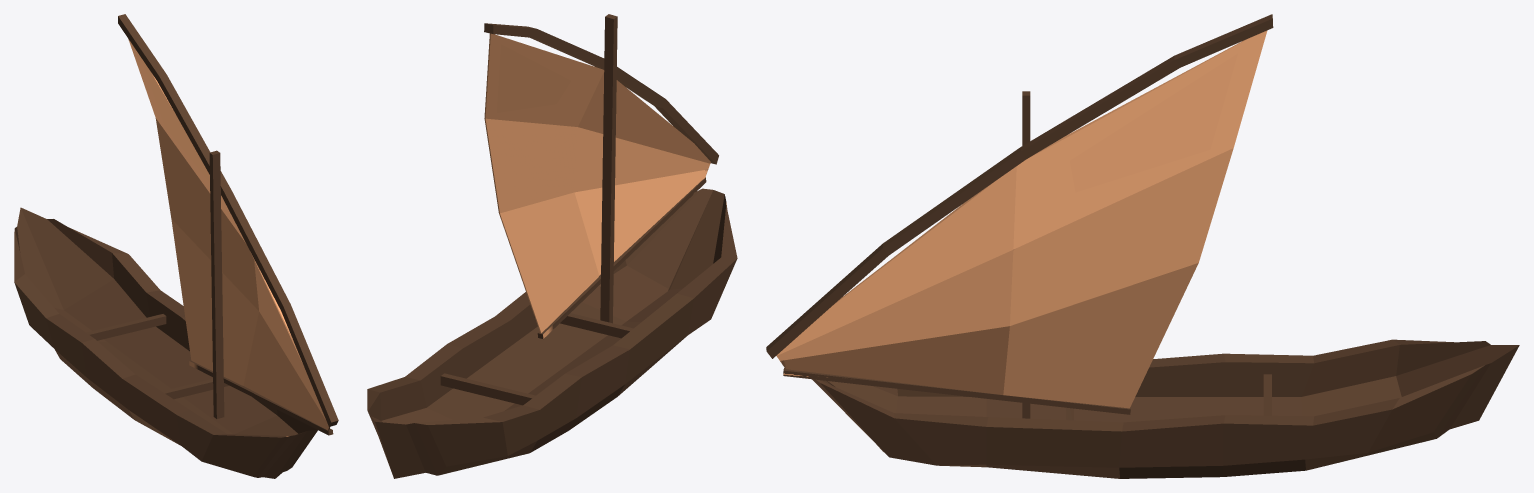
File: ArabToUnity.fbx
3 renders of one model, left to right at view 1: azimuth 30°, elevation 25°; view 2: azimuth 150°, elevation 25°; view 3: azimuth 270°, elevation 25°, orthographic. The views are drawn at different scales.
Parts seen in each view (by area): view 1: Cube, Cube.006, Cube.005, Cube.003, Cube.001, Cube.004, Cube.002; view 2: Cube, Cube.006, Cube.003, Cube.005, Cube.004, Cube.001, Cube.002; view 3: Cube.006, Cube, Cube.005, Cube.004.
Boxes of the visible parts, box(x1,y1,x2,y2) form: Cube: box(14, 207, 317, 478); Cube.006: box(128, 39, 329, 430); Cube.005: box(118, 14, 338, 426); Cube.003: box(209, 150, 224, 418); Cube.001: box(86, 314, 166, 340); Cube.004: box(189, 360, 333, 435); Cube.002: box(162, 379, 229, 399); Cube: box(367, 188, 737, 478); Cube.006: box(484, 33, 710, 333); Cube.003: box(600, 14, 617, 323); Cube.005: box(484, 23, 718, 164); Cube.004: box(537, 177, 706, 338); Cube.001: box(440, 373, 535, 405); Cube.002: box(534, 313, 633, 338); Cube.006: box(776, 30, 1267, 408); Cube: box(812, 339, 1519, 478); Cube.005: box(766, 14, 1273, 358); Cube.004: box(783, 368, 1130, 414).
Bounding box in the file's own units: 523 × 1592 × 2384.
